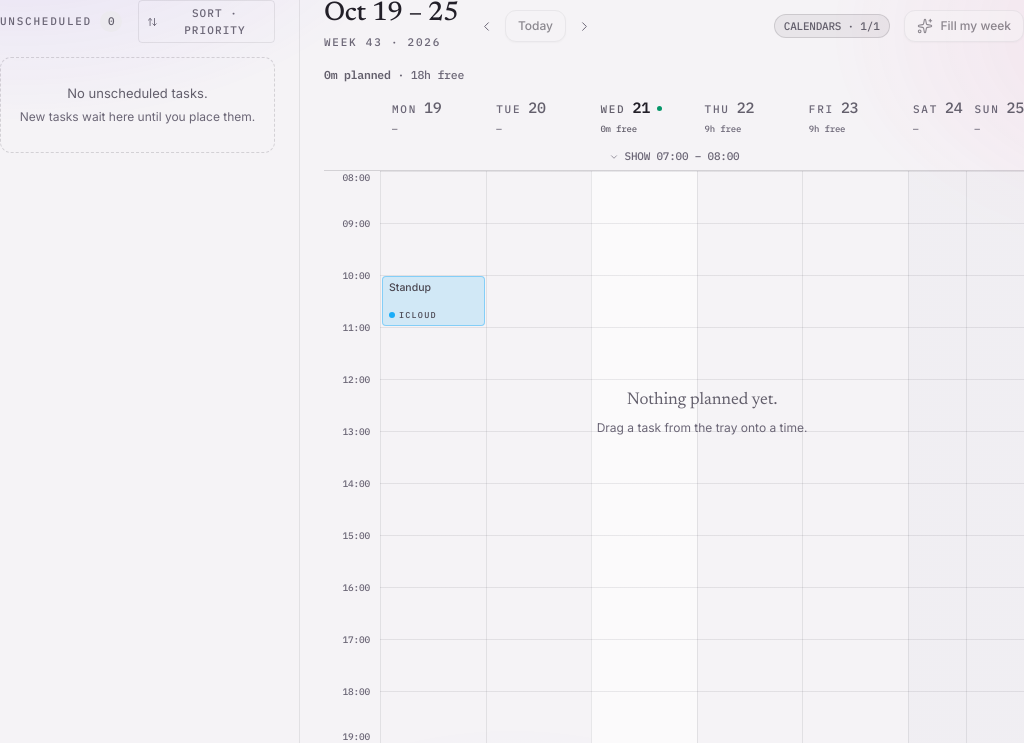
Test case: Planner — calendar read set (chunk 51) › the busy popover names the calendar an iCloud interval came from
The width and height of the screenshot is (1024, 743).
Click the button with aria-label "Busy 10:00 to 11:00 — Standup": (433, 301) [382,276,485,326]
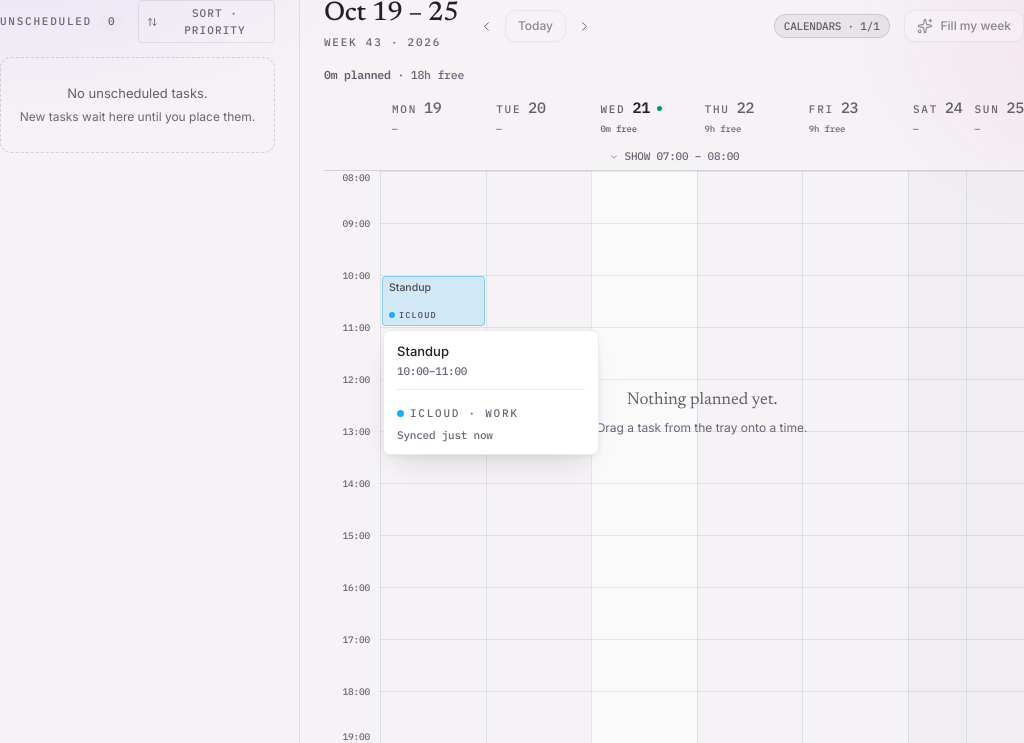
Result: the text "ICLOUD · WORK" is shown at [397,405,519,422]
